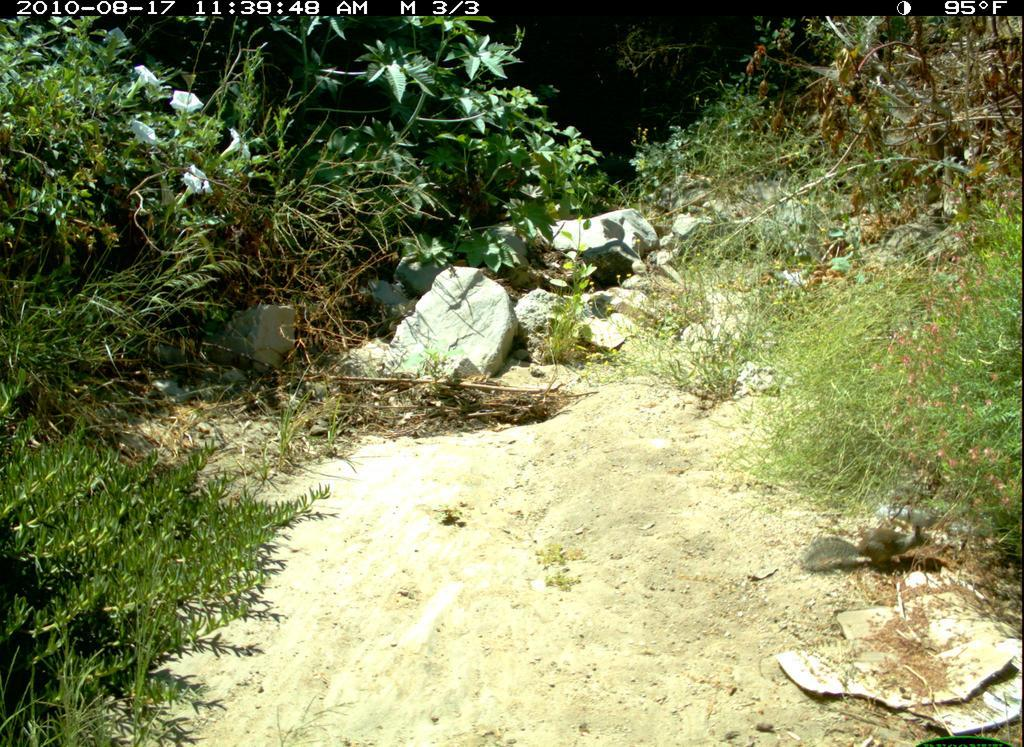squirrel: (801, 511, 943, 575)
